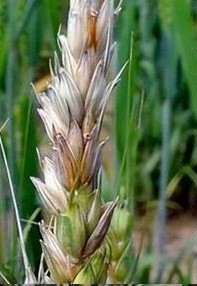Wheat scab: (41, 1, 126, 280)
